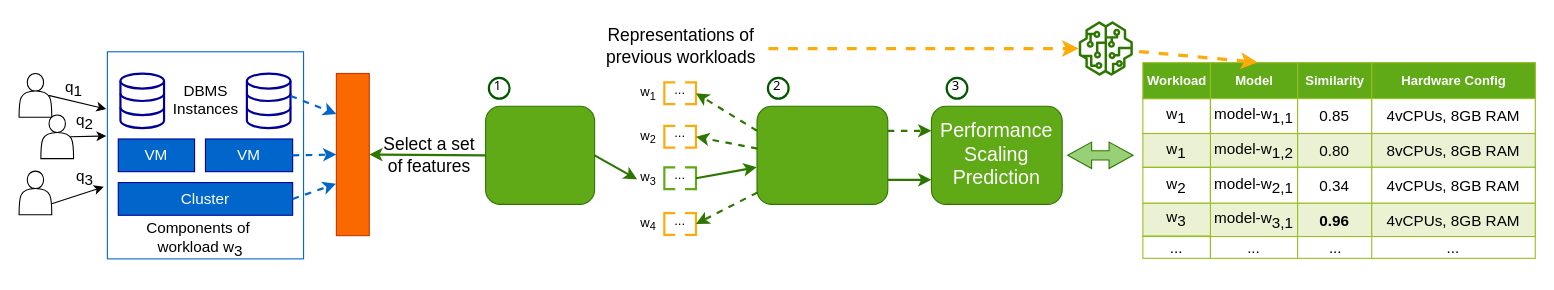
Image size: 1554x290. Some labels were removed from this diagram. The shapes that lost their labels are listed below. From the top down, each one's centre as x and y in pixels, then its label:
At (x=352, y=154): "Telemetry Store".
At (x=540, y=154): "Feature Selection".
At (x=822, y=154): "Workload Similarity Computation".
